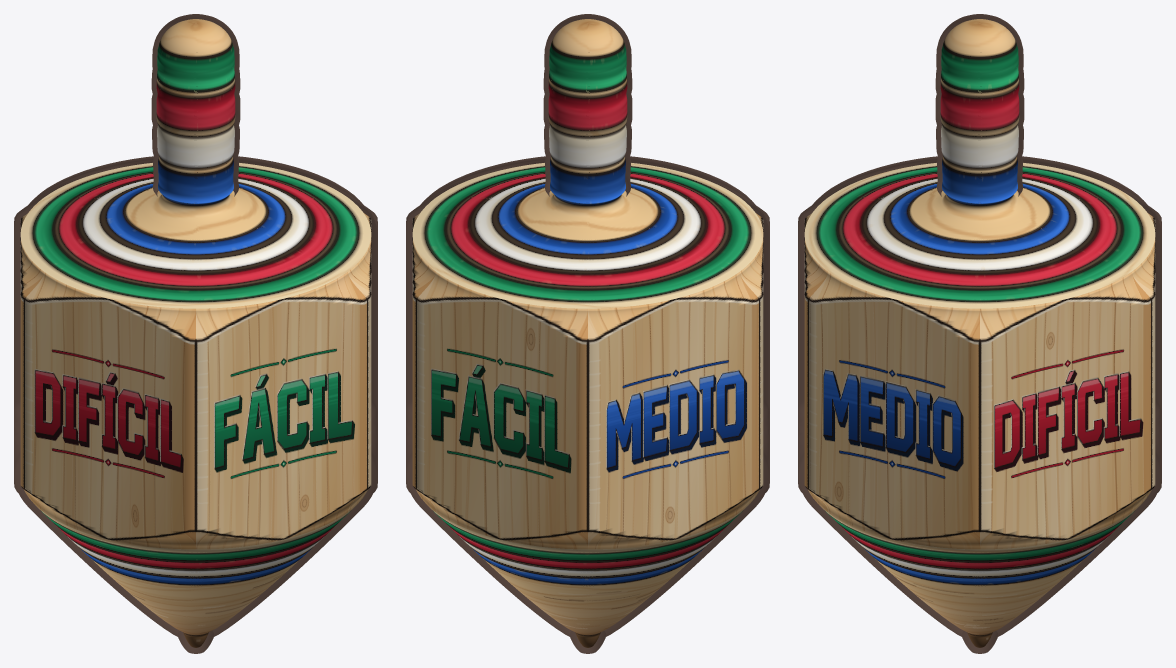
File: pirinola.glb
3 views of the same model, side by side, from view 1: azimuth 30°, elevation 25°; view 2: azimuth 150°, elevation 25°; view 3: azimuth 270°, elevation 25° (orthographic).
Parts seen in each view (by area): view 1: Pirinola_Madera, Pirinola_Contorno_Tinta; view 2: Pirinola_Madera, Pirinola_Contorno_Tinta; view 3: Pirinola_Madera, Pirinola_Contorno_Tinta.
Boxes of the visible parts, bbox=[...] form: Pirinola_Madera: bbox=[20, 19, 371, 647]; Pirinola_Contorno_Tinta: bbox=[14, 14, 377, 653]; Pirinola_Madera: bbox=[412, 19, 763, 647]; Pirinola_Contorno_Tinta: bbox=[406, 14, 769, 653]; Pirinola_Madera: bbox=[804, 19, 1155, 647]; Pirinola_Contorno_Tinta: bbox=[798, 14, 1161, 653].
Bounding box in the file's own units: 2.02 × 3.46 × 1.79.
Materials: 2 (1 with a texture image).
